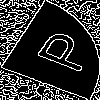P: (24, 25, 98, 75)
